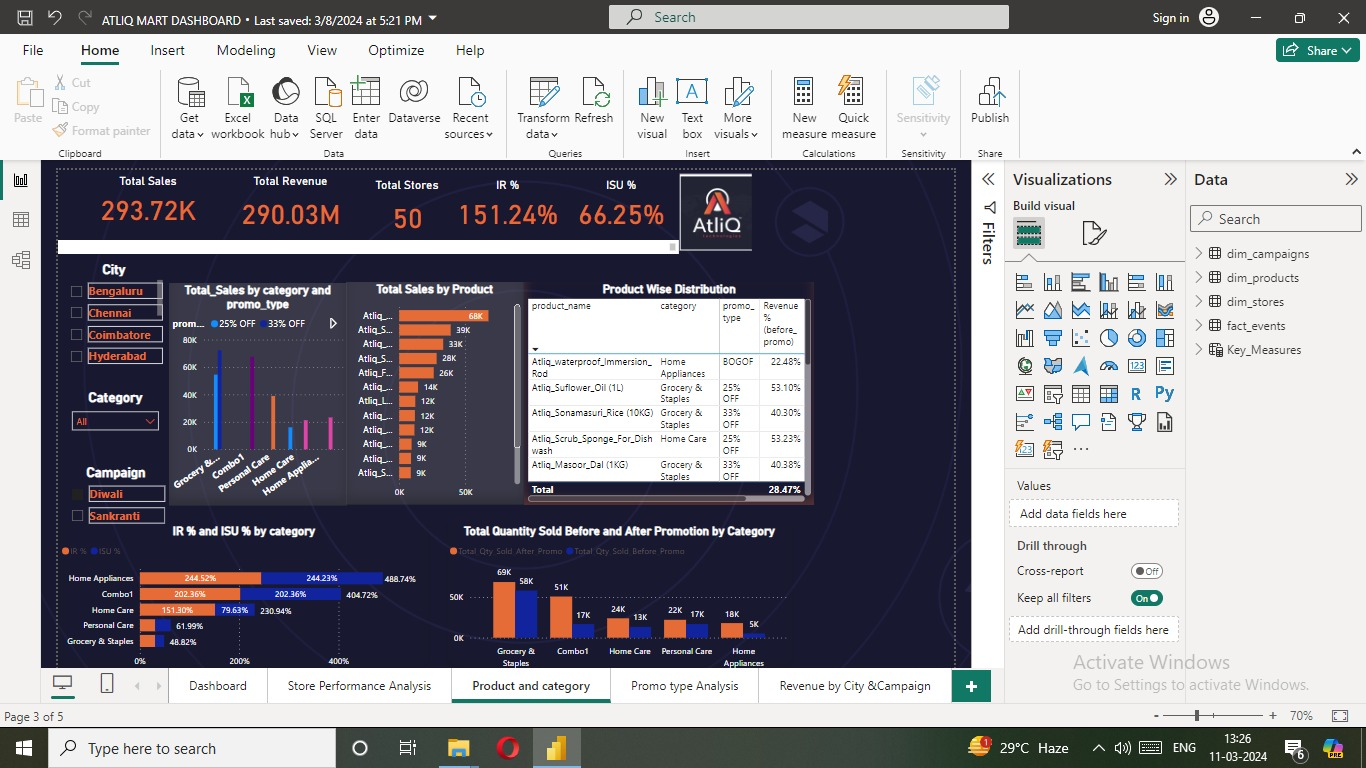

This screenshot's page, from the dashboard's own definition file:
{"tool":"powerbi","page":{"name":"Product and category","canvas":[1280,720],"ordinal":2},"visuals":[{"type":"image","box":[867.1,0,144.3,120],"z":0},{"type":"card","title":"Total Sales","fields":{"Values":["Key_Measures.Total_Sales"]},"box":[52.9,5.7,151.4,77.1],"z":1000},{"type":"card","title":"Total Revenue","fields":{"Values":["Key_Measures.Total_Revenue_Overall"]},"box":[254.3,5.7,155.7,88.6],"z":2000},{"type":"card","title":"Total Stores","fields":{"Values":["Key_Measures.Total_Stores"]},"box":[444.3,11.4,108.6,88.6],"z":3000},{"type":"card","title":"IR %","fields":{"Values":["Key_Measures.IR %"]},"box":[562.9,11.4,158.6,77.1],"z":4000},{"type":"card","title":"ISU %","fields":{"Values":["Key_Measures.ISU %"]},"box":[721.4,11.4,165.7,77.1],"z":5000},{"type":"textbox","box":[0,100,887.1,20],"z":6000},{"type":"slicer","title":"City","fields":{"Values":["dim_stores.city"]},"box":[5.7,130,148.6,158.6],"z":7000},{"type":"slicer","title":"Category","fields":{"Values":["dim_products.category"]},"box":[10,312.9,144.3,165.7],"z":8000},{"type":"slicer","title":"Campaign","fields":{"Values":["dim_campaigns.campaign_name"]},"box":[7.1,420,151.4,115.7],"z":9000},{"type":"clusteredBarChart","title":"Total Sales by Product","fields":{"Y":["Key_Measures.Total_Sales"],"Category":["dim_products.product_name"]},"box":[411.9,159.7,253.7,317.9],"z":10000},{"type":"tableEx","title":"Product Wise Distribution","fields":{"Values":["dim_products.product_name","dim_products.category","fact_events.promo_type","Key_Measures.Revenue % (before_promo)","Key_Measures.Revenue % (after_promo)"]},"box":[665.7,159.7,414.9,319.4],"z":10001},{"type":"barChart","fields":{"Y":["Key_Measures.IR %","Key_Measures.ISU %"],"Category":["dim_products.category"]},"box":[0,505.7,531.4,214.3],"z":10002},{"type":"clusteredColumnChart","title":"Total Quantity Sold Before and After Promotion by Category","fields":{"Category":["dim_products.category"],"Y":["Key_Measures.Total_Qty_Sold_After_Promo","Key_Measures.Total_Qty_Sold_Before_Promo"]},"box":[553.7,506,495.5,213.4],"z":10003},{"type":"clusteredColumnChart","fields":{"Category":["dim_products.category"],"Series":["fact_events.promo_type"],"Y":["Key_Measures.Total_Sales"]},"box":[158.2,161.2,253.7,317.9],"z":10004}]}

Visuals, with their boxes on the page's 1280x720 design canvas (x1, y1, x2, y2). These are canvas units, not pixel positions in the 1366x768 screenshot, which may show the page scaled, cropped or inside an application window:
image: rect(867, 0, 1011, 120)
"Total Sales" card: rect(53, 6, 204, 83)
"Total Revenue" card: rect(254, 6, 410, 94)
"Total Stores" card: rect(444, 11, 553, 100)
"IR %" card: rect(563, 11, 722, 88)
"ISU %" card: rect(721, 11, 887, 88)
textbox: rect(0, 100, 887, 120)
"City" slicer: rect(6, 130, 154, 289)
"Category" slicer: rect(10, 313, 154, 479)
"Campaign" slicer: rect(7, 420, 158, 536)
"Total Sales by Product" clusteredBarChart: rect(412, 160, 666, 478)
"Product Wise Distribution" tableEx: rect(666, 160, 1081, 479)
barChart - Key_Measures.IR % x Key_Measures.ISU %: rect(0, 506, 531, 720)
"Total Quantity Sold Before and After Promotion by Category" clusteredColumnChart: rect(554, 506, 1049, 719)
clusteredColumnChart - dim_products.category x fact_events.promo_type: rect(158, 161, 412, 479)
